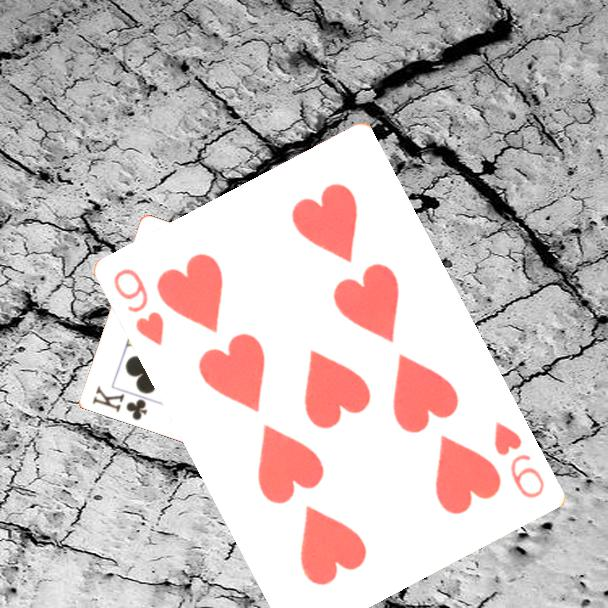c13: (89, 382, 151, 423)
h09: (110, 265, 168, 349), (491, 418, 548, 502)
